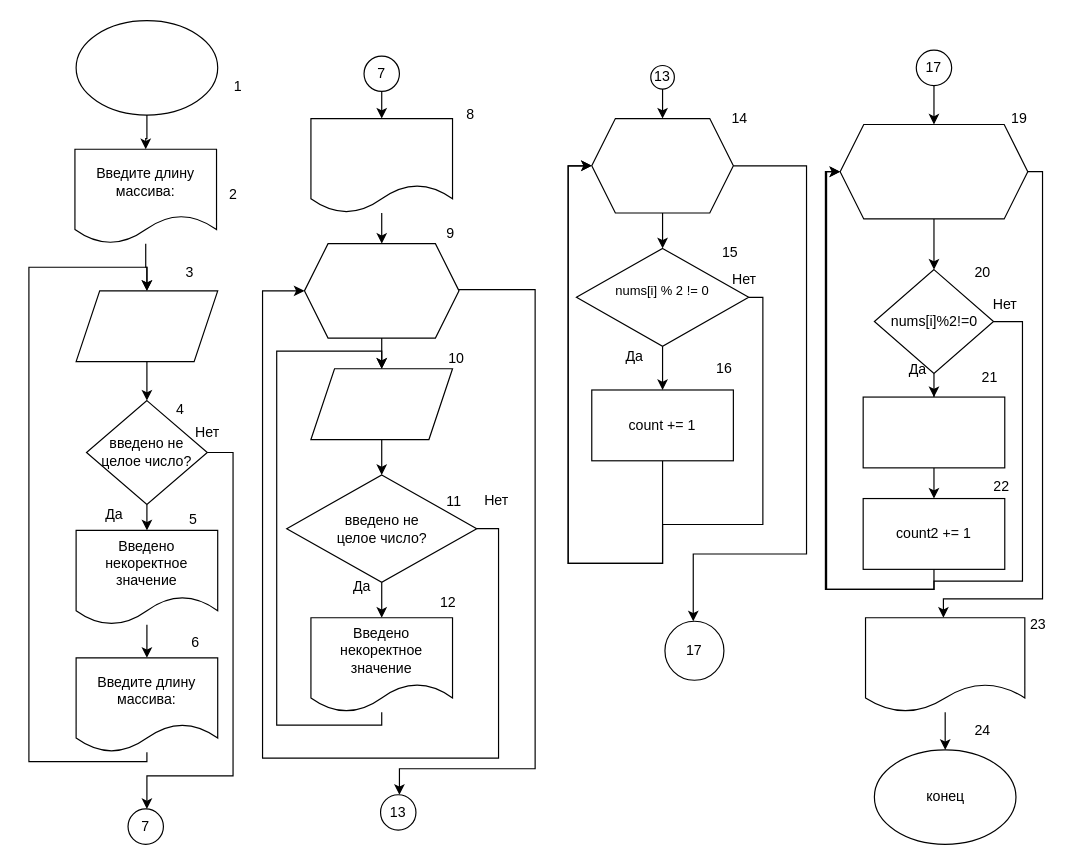
Some shapes in this 1076 by 865 pixel diagram are drawn without their labels. The shapes that lost their labels are listed below. From the top down, each one's centre as x and y in pixels, then its label:
(146,67): Начало
(381,165): Введите массив:
(662,165): i = 0;i<lenmass;i++
(933,171): i = 0; i < lenmass; i++
(381,290): i = 0;i < lenmass; i++
(146,326): lenmass
(381,404): nums[i]
(933,432): nums2[count2] = nums[i]
(944,664): "Итоговый массив: "+Arrays.toString(nums)
